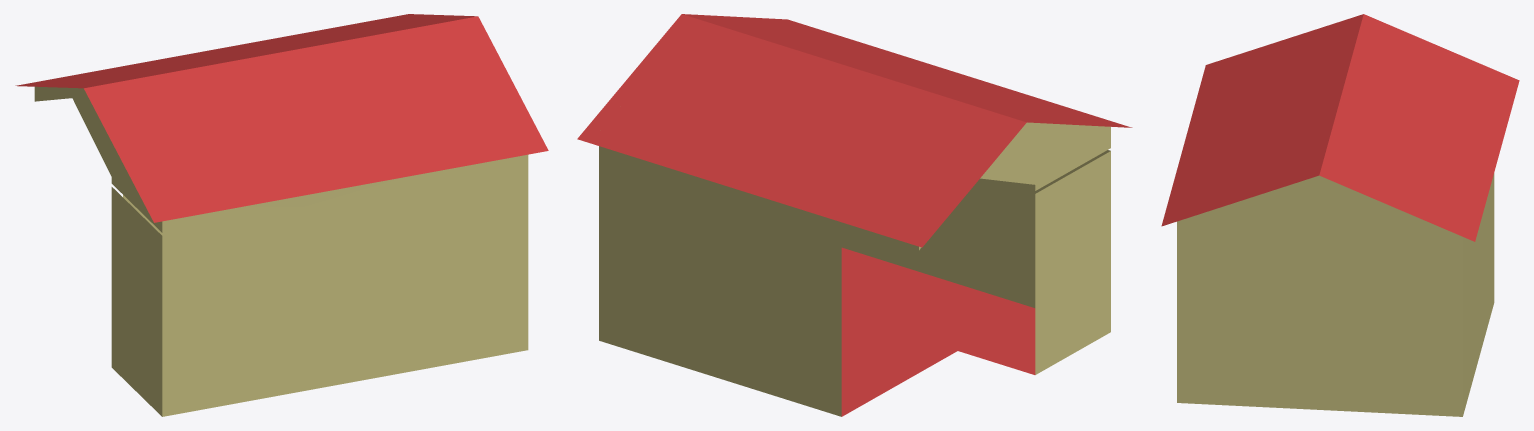
3 renders of one model, left to right at view 1: azimuth 30°, elevation 25°; view 2: azimuth 150°, elevation 25°; view 3: azimuth 270°, elevation 25°, orthographic. The views are drawn at different scales.
Bounding box in the file's own units: 15 × 12.83 × 9.5.
